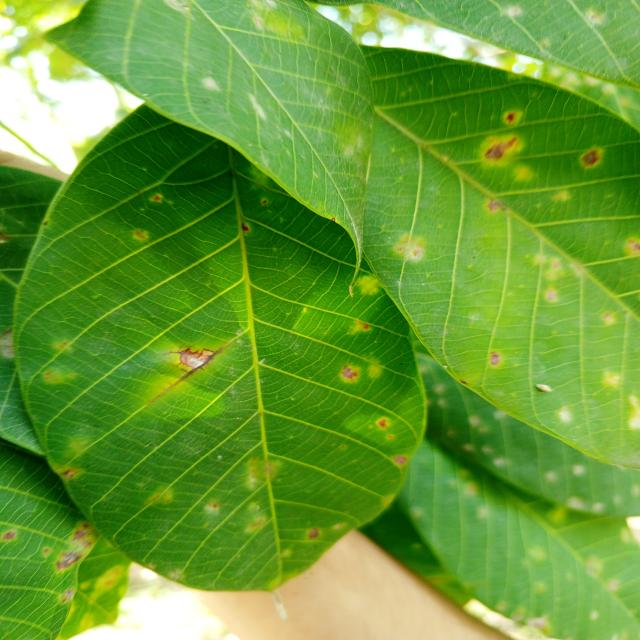Corynespora: (153, 343, 225, 400)
